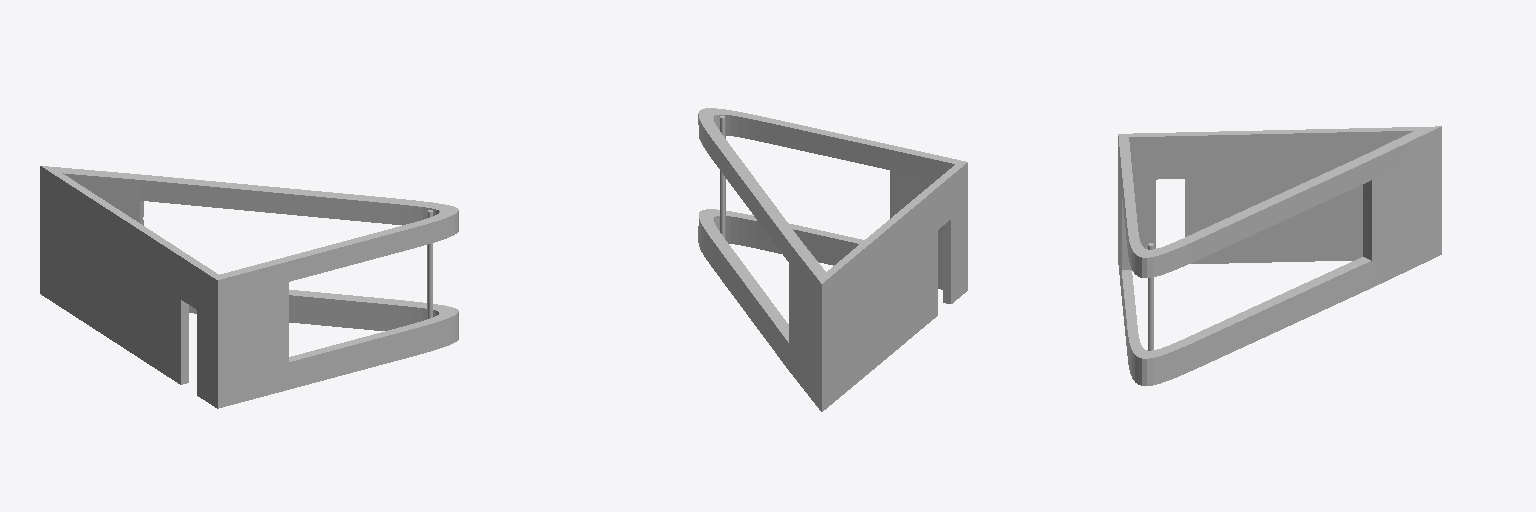
Rendered from dinerSeparate.obj.
The picture shows the model from 3 angles: view 1: azimuth 30°, elevation 25°; view 2: azimuth 150°, elevation 25°; view 3: azimuth 270°, elevation 25°; orthographic projection.
Visible parts, largest first — view 1: HP_Plane.008; view 2: HP_Plane.008; view 3: HP_Plane.008.
Boxes of the visible parts, box(x1,y1,x2,y2) form: HP_Plane.008: box(40, 166, 458, 408); HP_Plane.008: box(698, 108, 967, 411); HP_Plane.008: box(1118, 126, 1441, 385).
Size of the model in its own units: 4.09 by 1.89 by 4.25.